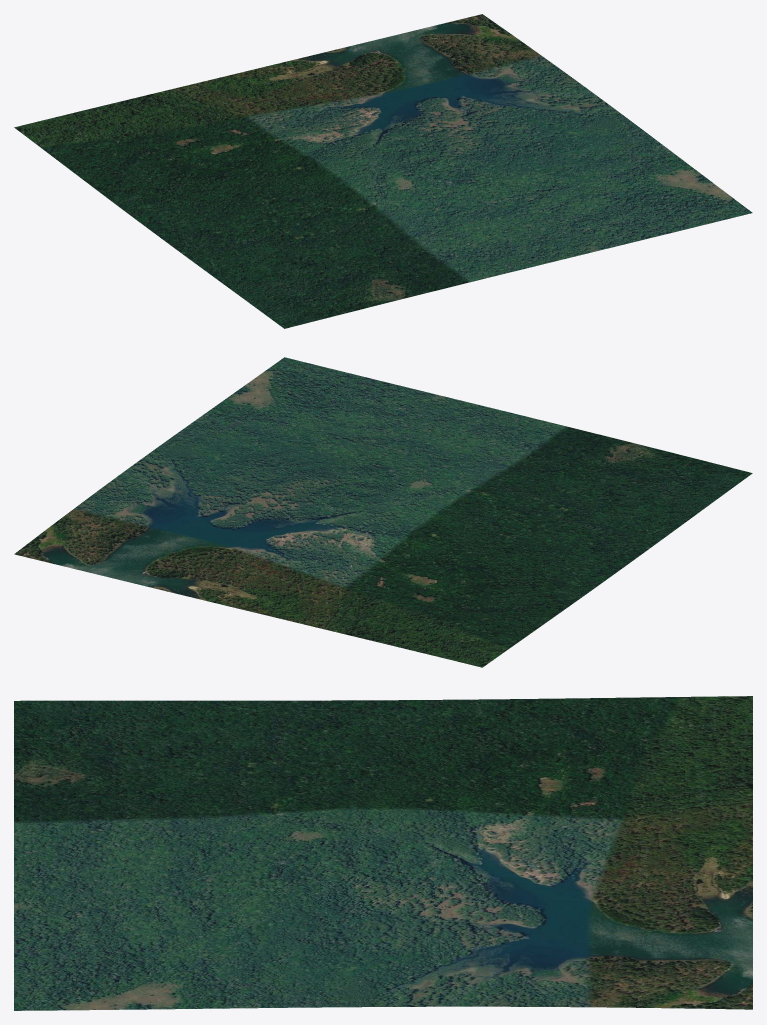
Rendered from terrain_real_T_W02_S04.glb.
The picture shows the model from 3 angles, top to bottom: view 1: azimuth 30°, elevation 25°; view 2: azimuth 150°, elevation 25°; view 3: azimuth 270°, elevation 25°; orthographic projection. The views are drawn at different scales.
Parts seen in each view (by area): view 1: Terrain_Real_DEM_T_W02_S04; view 2: Terrain_Real_DEM_T_W02_S04; view 3: Terrain_Real_DEM_T_W02_S04.
Part boxes in pixels (x1,y1,x2,y2): Terrain_Real_DEM_T_W02_S04: (14, 14, 752, 328); Terrain_Real_DEM_T_W02_S04: (14, 357, 752, 667); Terrain_Real_DEM_T_W02_S04: (14, 696, 752, 1010).
Bounding box in the file's own units: 2000 × 56.36 × 2000.
Materials: 1 (1 with a texture image).
